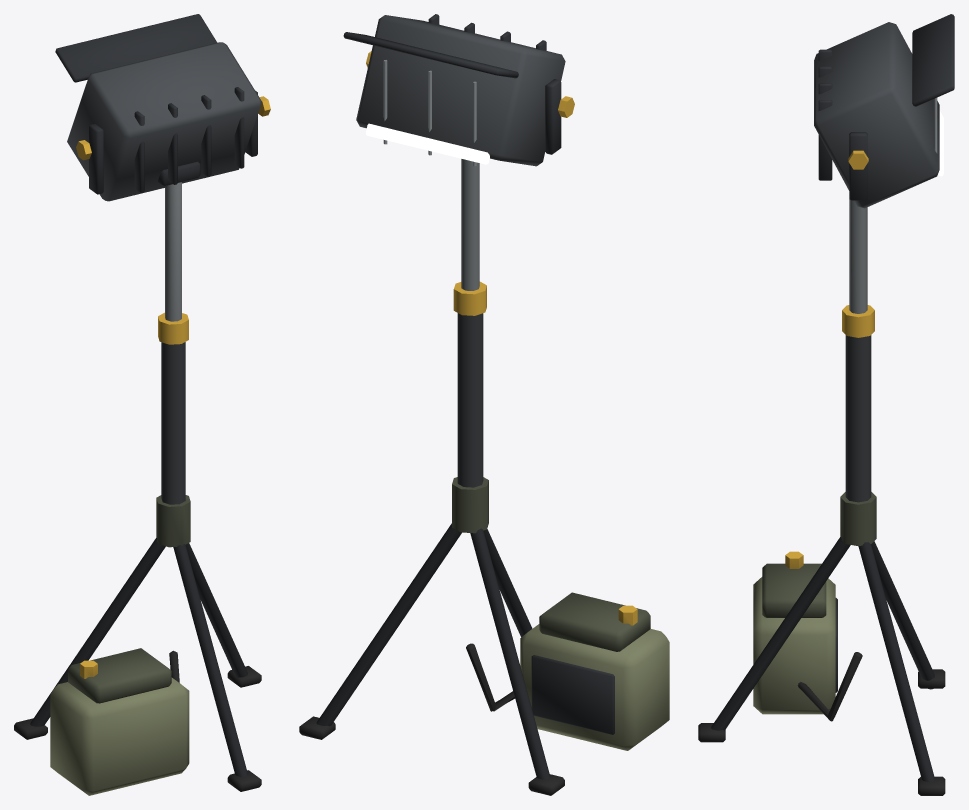
File: light_tripod.glb
3 renders of one model, left to right at view 1: azimuth 30°, elevation 25°; view 2: azimuth 150°, elevation 25°; view 3: azimuth 270°, elevation 25°, orthographic. The views are drawn at different scales.
Visible parts, largest first — view 1: light_tripod; view 2: light_tripod; view 3: light_tripod.
Part boxes in pixels (x1=…): light_tripod: x1=14, y1=14, x2=270, y2=795; light_tripod: x1=299, y1=14, x2=669, y2=795; light_tripod: x1=698, y1=14, x2=954, y2=795.
Size of the model in its own units: 0.6671 by 1.67 by 0.5603.
1 material, 1 textured.
